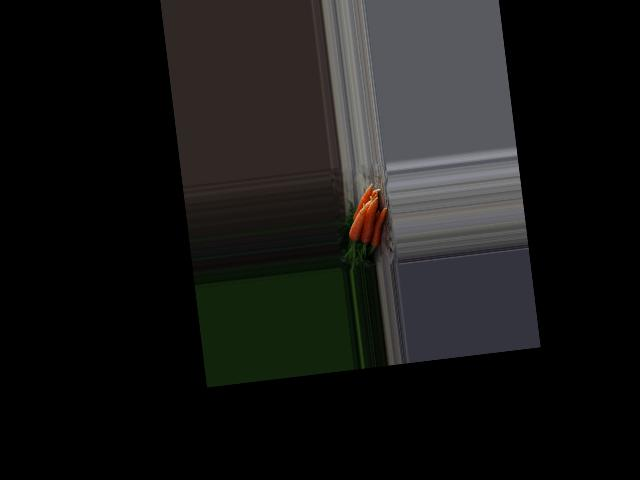carrot: (364, 202, 391, 248)
